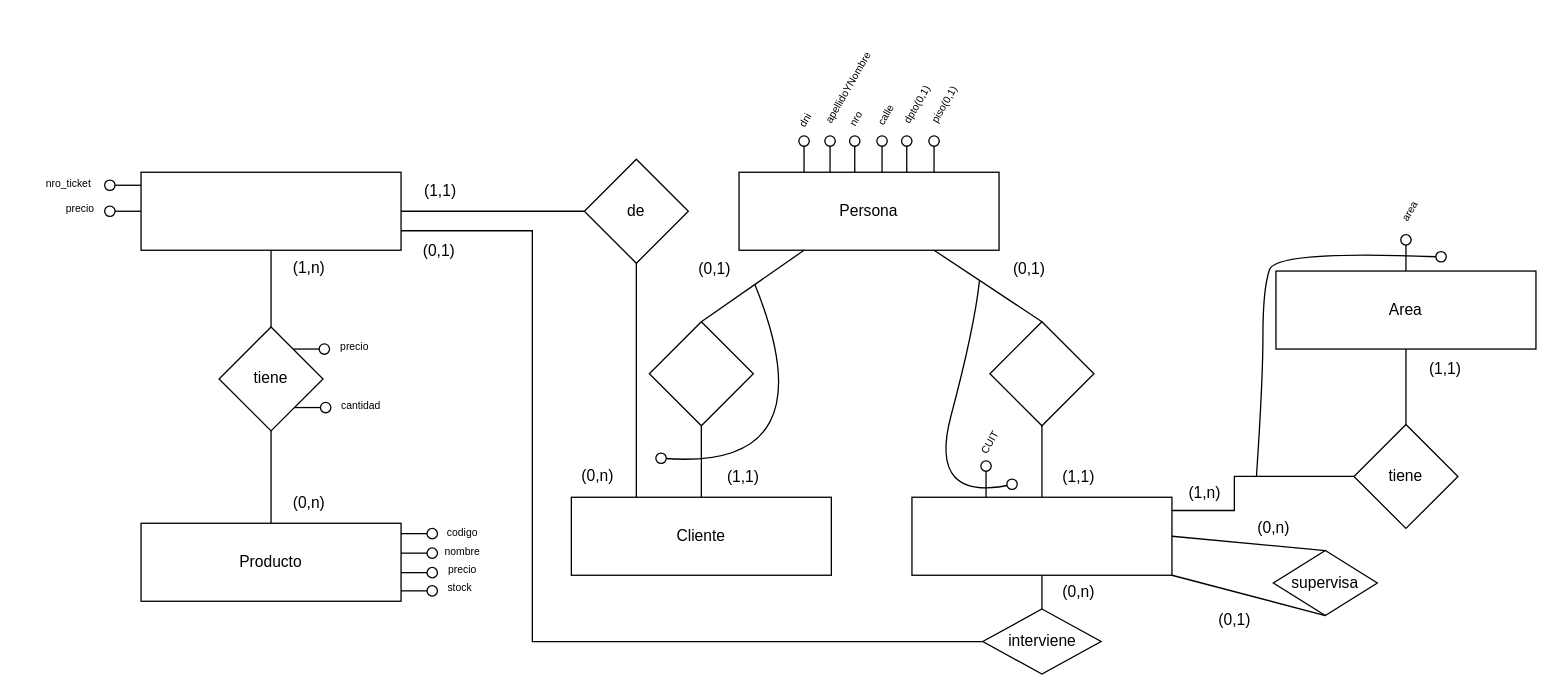
This 1559x698 diagram has some shape labels left out. The shapes that lost their labels are listed below. From the top down, each one's centre as x and y in pixels, then its label:
At [270,210]: "Compra".
At [700,373]: "es_un1".
At [1041,373]: "es_un2".
At [1041,535]: "Empleado".
